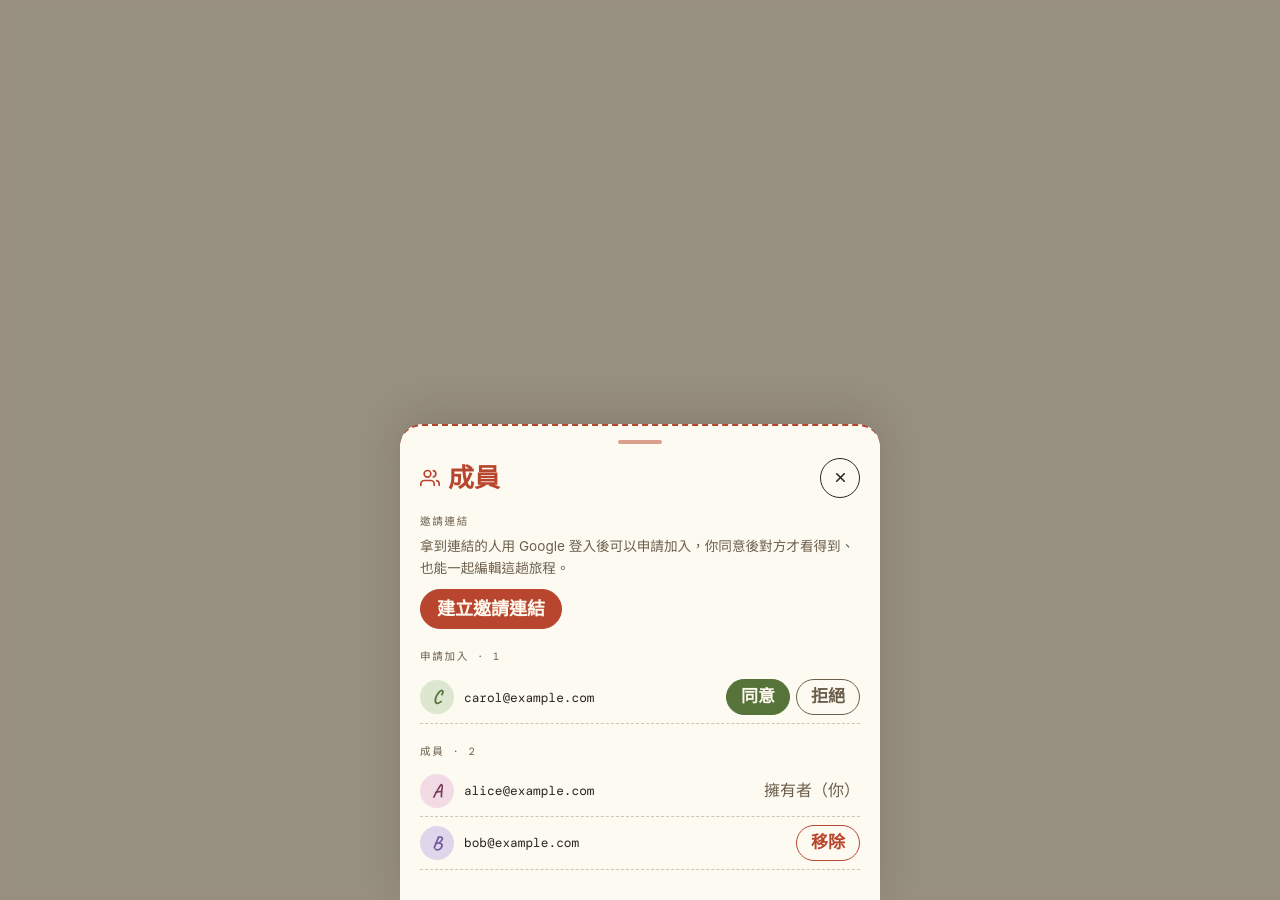
it: 擁有者 › 沒有邀請碼時先建立
This screenshot has width=1280, height=900.
Click the button "建立邀請連結".
click(491, 609)  # box [420,589,562,629]
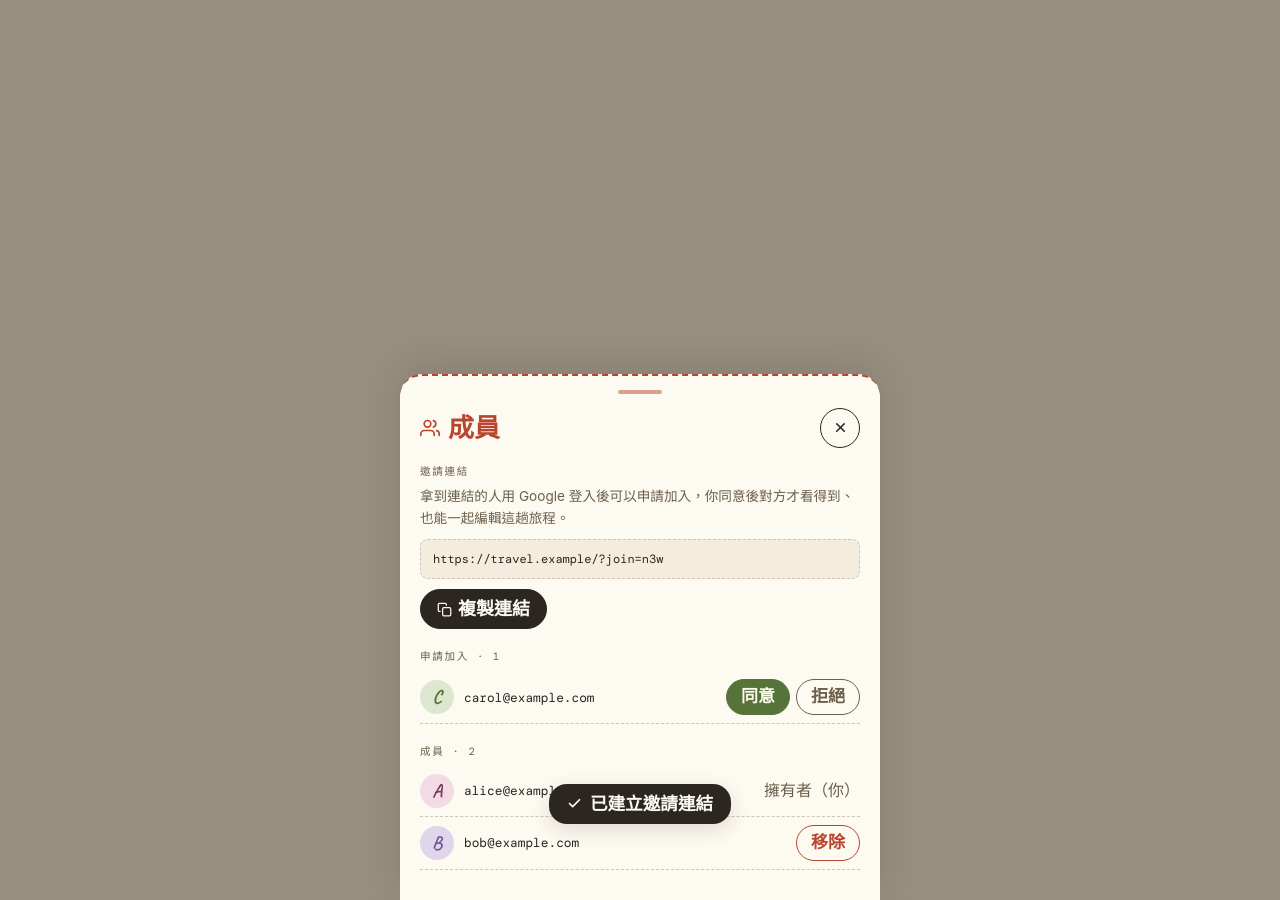
Expected: the field named "邀請連結" holds "https://travel.example/?join=n3w", [420,539,860,579]
